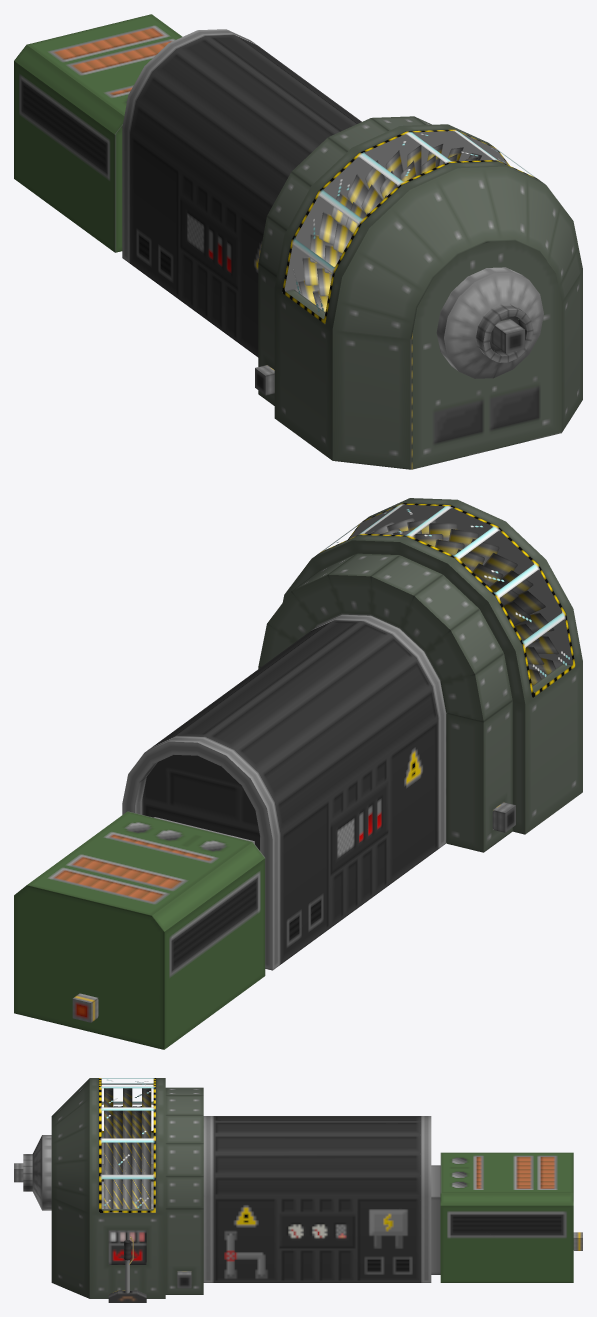
The model's file is chungus.obj.
3 views of the same model, one above another, from view 1: azimuth 30°, elevation 25°; view 2: azimuth 150°, elevation 25°; view 3: azimuth 270°, elevation 25° (orthographic). The views are drawn at different scales.
Parts seen in each view (by area): view 1: Body, Blades; view 2: Body, Blades; view 3: Body, Blades, Lever.
Part boxes in pixels (x1=…): Body: x1=14, y1=14, x2=582, y2=469; Blades: x1=298, y1=144, x2=481, y2=312; Body: x1=14, y1=498, x2=582, y2=1049; Blades: x1=370, y1=518, x2=558, y2=685; Body: x1=14, y1=1078, x2=582, y2=1302; Blades: x1=101, y1=1088, x2=153, y2=1208; Lever: x1=124, y1=1236, x2=133, y2=1293.
Size of the model in its own units: 5.25 by 5 by 14.99.
